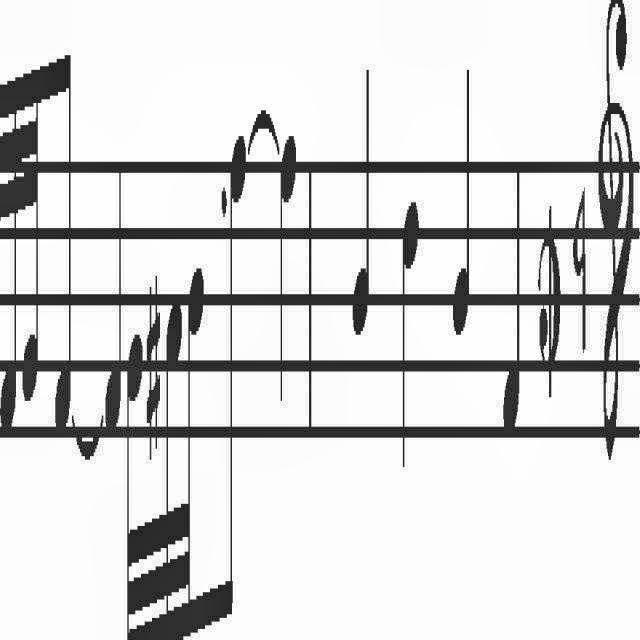Bass-clef: (596, 0, 640, 482)
Bemol: (567, 180, 589, 366)
Diez: (145, 283, 163, 467)
Eighth-note: (226, 107, 250, 640), (46, 41, 74, 446)
Quarter-note: (276, 125, 304, 431), (396, 168, 424, 468), (448, 69, 474, 343), (353, 37, 375, 343), (503, 158, 525, 458), (106, 158, 124, 454)
